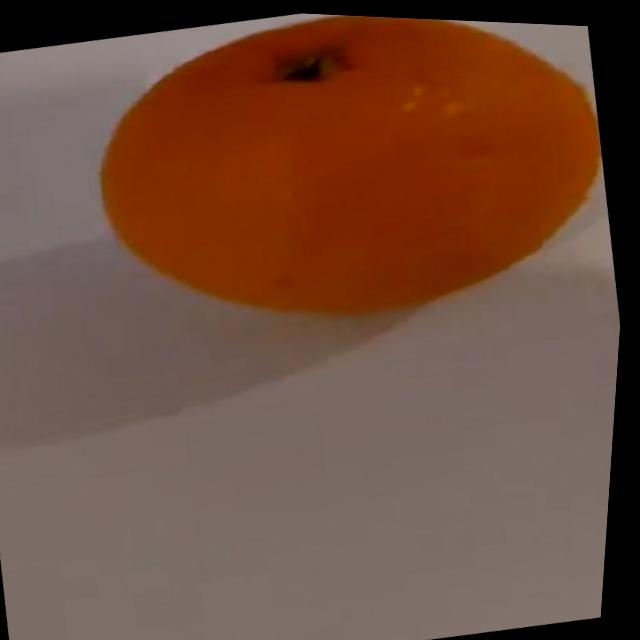Orange: (65, 3, 633, 363)
